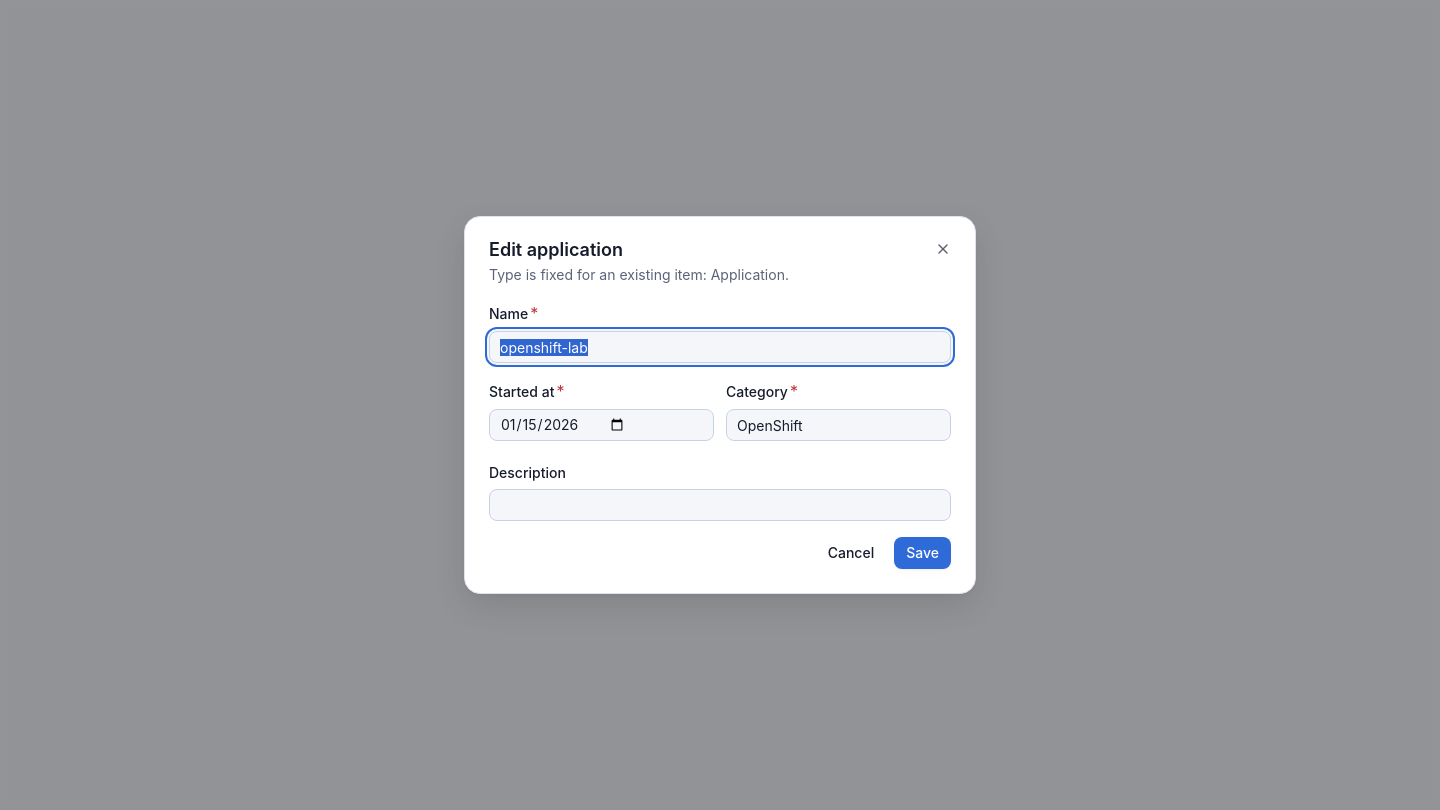
<EditItemDialog> validation › blocks submit with an inline error when the name is empty
The image size is (1440, 810).
Clear the field labelled "Name" at (720, 347), box [489, 331, 951, 363]
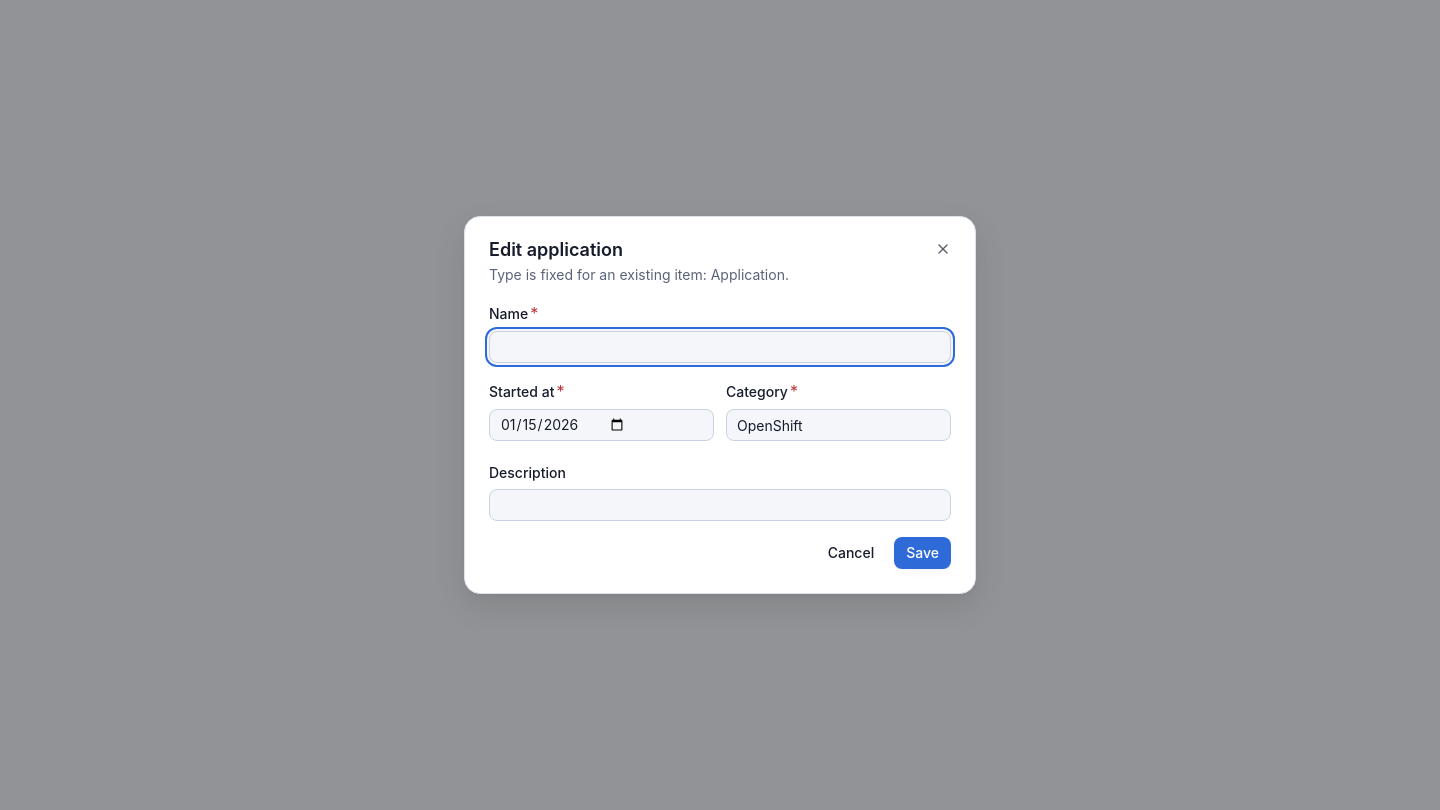
Click the button "Save".
click(923, 553)  # box [894, 537, 951, 569]
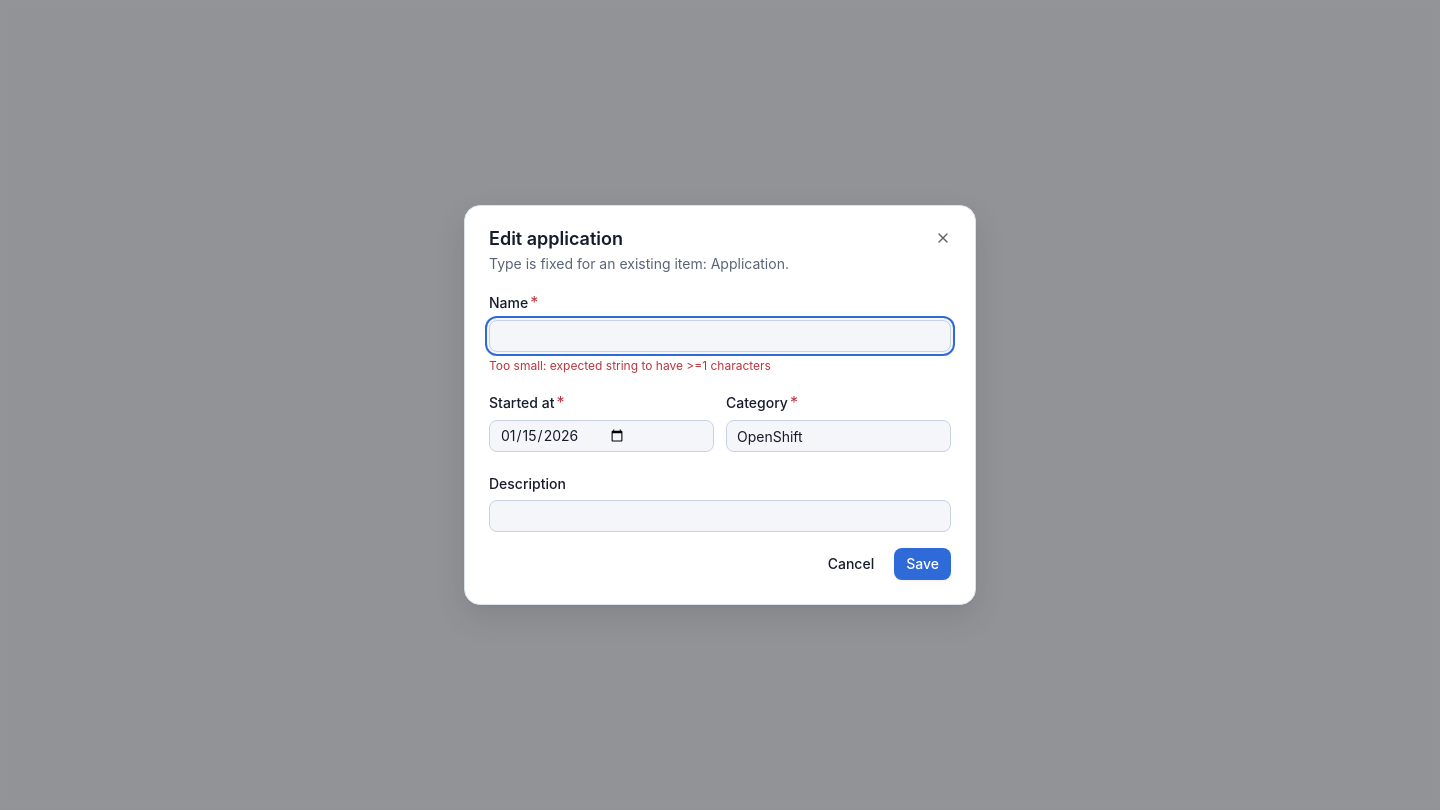
Expected: the text "Too small: expected string to have >=1 characters" is shown, [489, 358, 771, 373]
